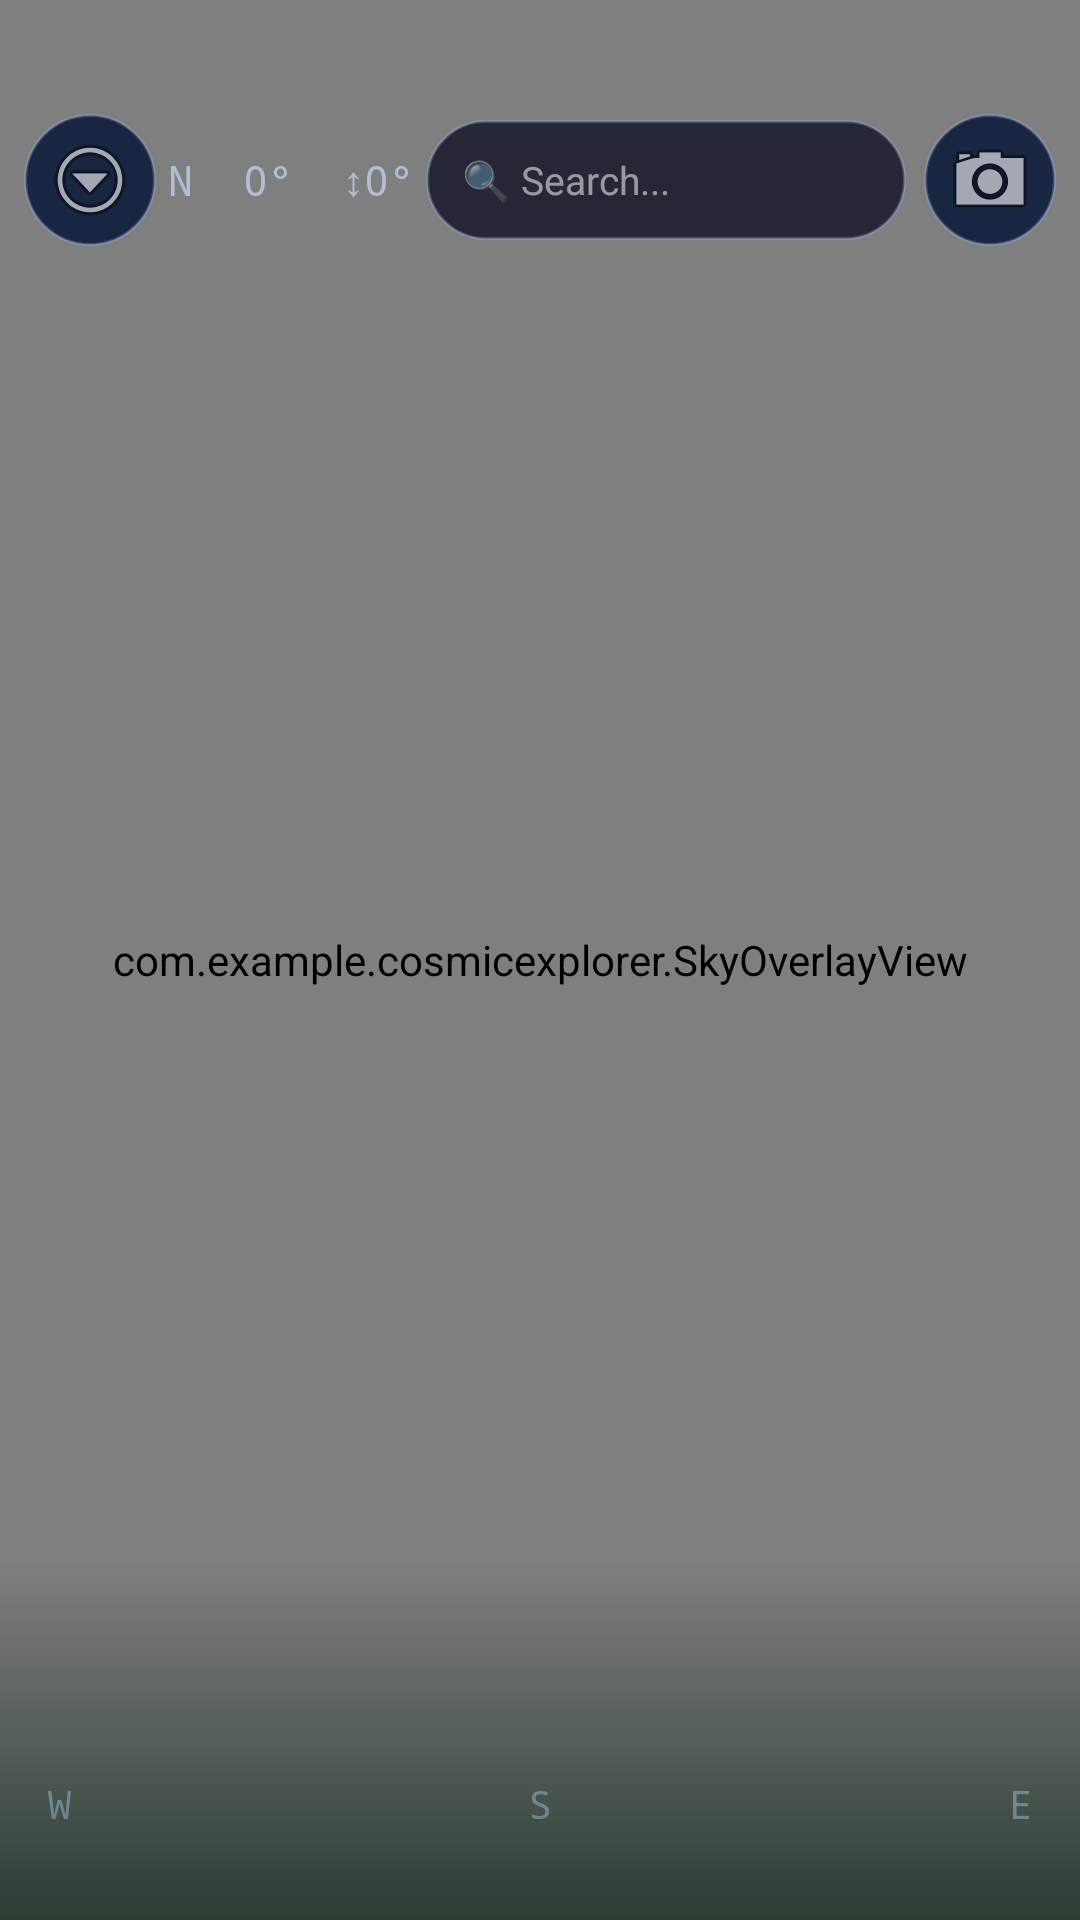

Point at icon controls on the screen. Image size 1080px x 1920px, points as [x,y].
Menu: [90,180]
